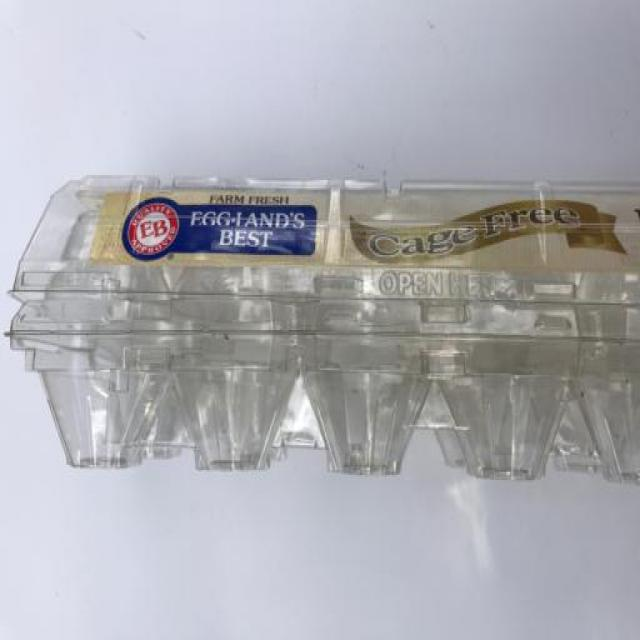plastic: (9, 79, 640, 640)
